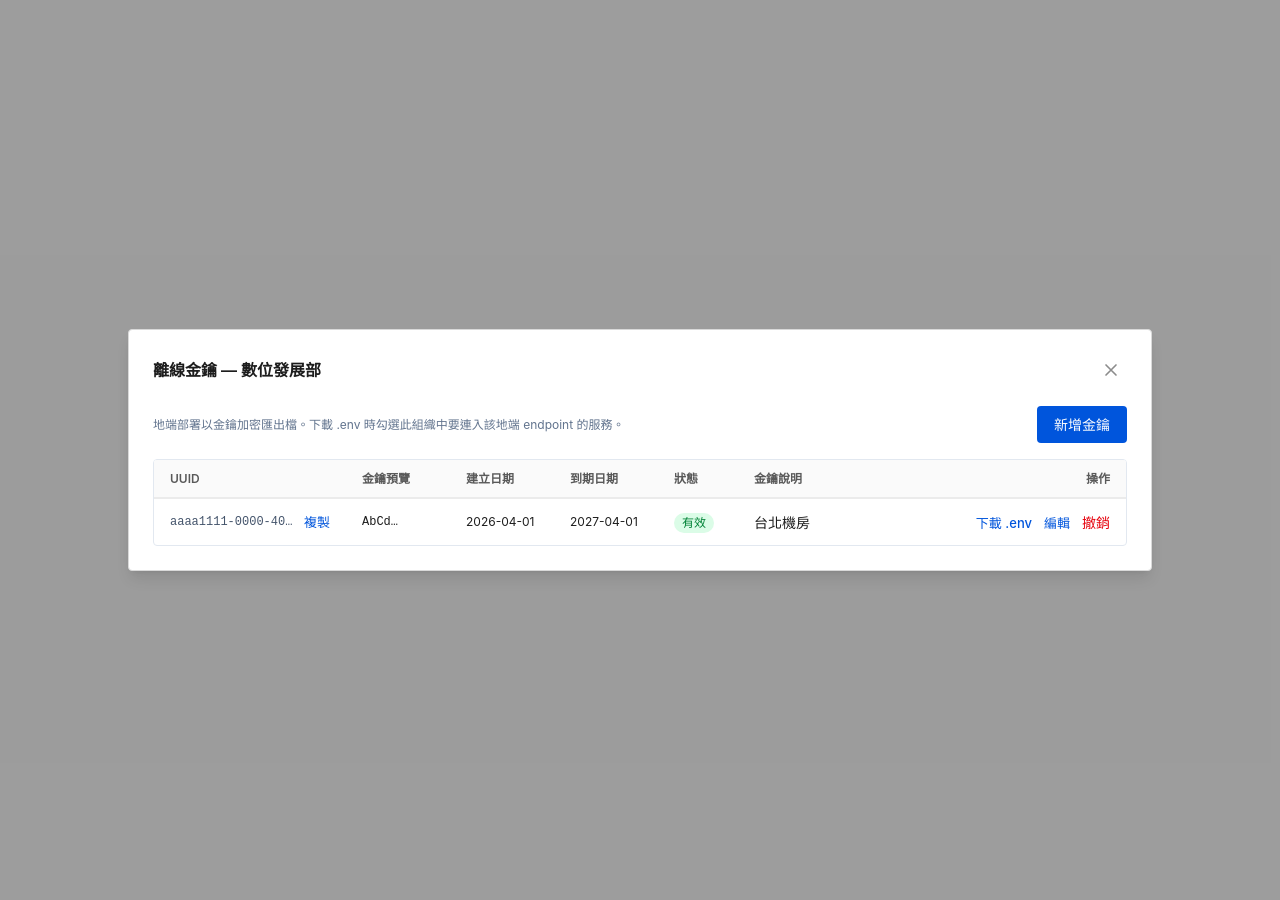
it: OrganizationKeysModal — list › copies a key UUID
This screenshot has width=1280, height=900.
Expected: the text "AbCd…" is shown, [346,499,450,545]
Click the button "複製": (317, 522) [304,514,330,531]
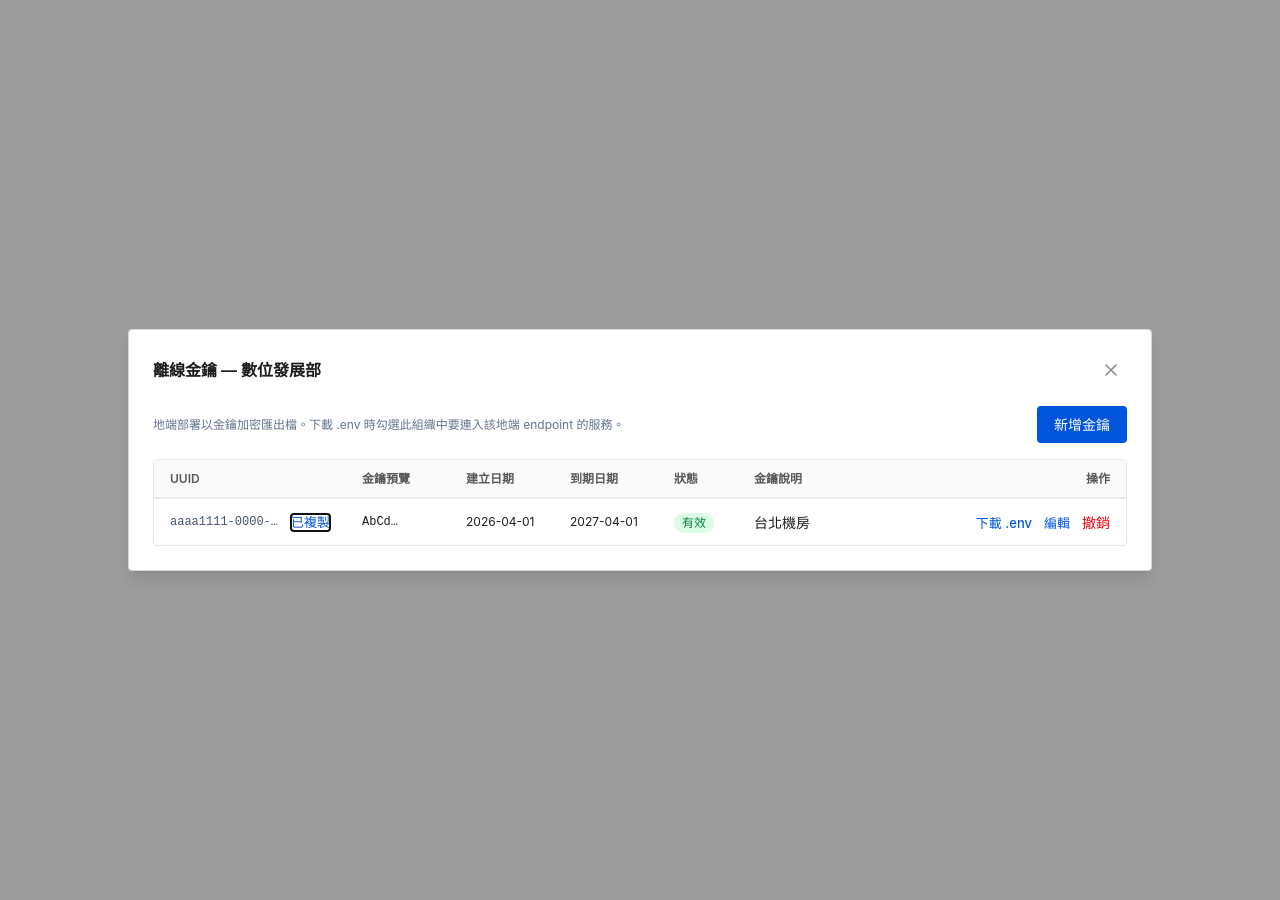
Expected: the button "已複製" is shown, [291,514,330,531]
